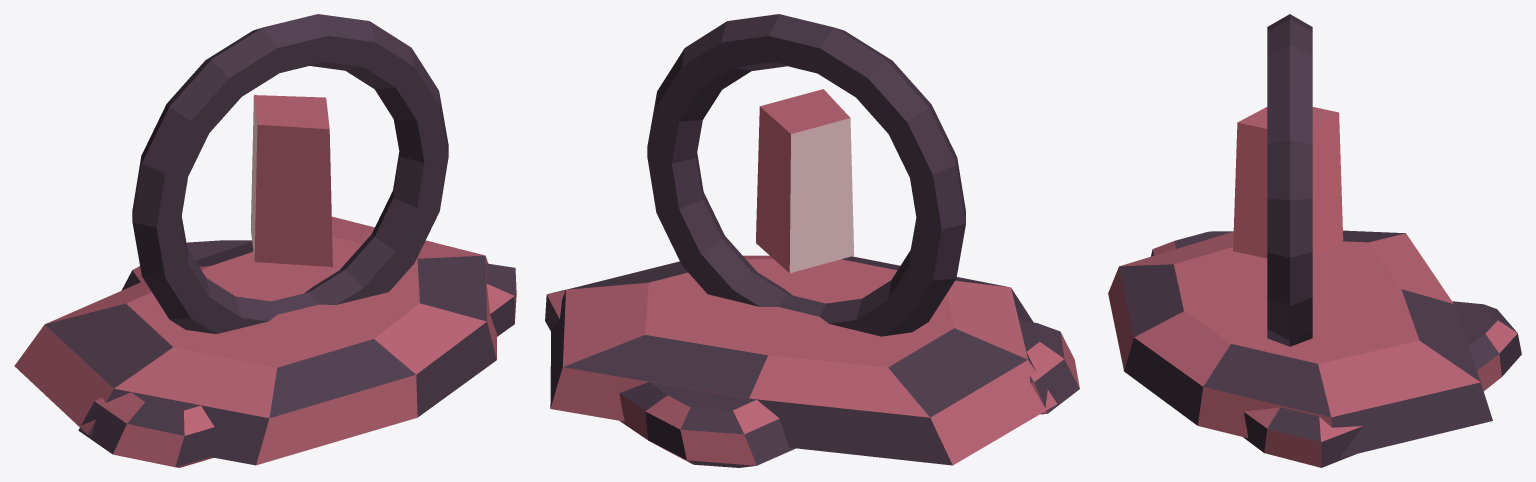
Rendered from BH_ORE_O17_Nucleo_Infernal_V01.glb.
3 views of the same model, side by side, from view 1: azimuth 30°, elevation 25°; view 2: azimuth 150°, elevation 25°; view 3: azimuth 270°, elevation 25° (orthographic). The views are drawn at different scales.
Visible parts, largest first — view 1: Bedrock | primary.001, Enclosing stone / obsidian halo.001, Square infernal core.001, Bedrock | shoulder 1.001, Bedrock | shoulder 2.001, Bedrock | shoulder 3.001; view 2: Bedrock | primary.001, Enclosing stone / obsidian halo.001, Square infernal core.001, Bedrock | shoulder 3.001, Bedrock | shoulder 1.001, Bedrock | shoulder 2.001; view 3: Bedrock | primary.001, Enclosing stone / obsidian halo.001, Square infernal core.001, Bedrock | shoulder 2.001, Bedrock | shoulder 3.001, Bedrock | shoulder 1.001.
Boxes of the visible parts, left/top/right/bottom form: Bedrock | primary.001: left=14, top=216, right=496, bottom=465; Enclosing stone / obsidian halo.001: left=132, top=14, right=448, bottom=334; Square infernal core.001: left=250, top=95, right=332, bottom=266; Bedrock | shoulder 1.001: left=78, top=392, right=214, bottom=467; Bedrock | shoulder 2.001: left=486, top=263, right=516, bottom=336; Bedrock | shoulder 3.001: left=121, top=240, right=252, bottom=290; Bedrock | primary.001: left=550, top=255, right=1057, bottom=465; Enclosing stone / obsidian halo.001: left=647, top=14, right=965, bottom=336; Square infernal core.001: left=756, top=89, right=854, bottom=272; Bedrock | shoulder 3.001: left=619, top=382, right=795, bottom=467; Bedrock | shoulder 1.001: left=1019, top=319, right=1079, bottom=414; Bedrock | shoulder 2.001: left=545, top=289, right=568, bottom=330; Bedrock | primary.001: left=1108, top=230, right=1492, bottom=457; Enclosing stone / obsidian halo.001: left=1267, top=14, right=1312, bottom=346; Square infernal core.001: left=1233, top=107, right=1343, bottom=258; Bedrock | shoulder 2.001: left=1243, top=407, right=1362, bottom=467; Bedrock | shoulder 3.001: left=1452, top=301, right=1521, bottom=390; Bedrock | shoulder 1.001: left=1151, top=231, right=1233, bottom=256.
Bounding box in the file's own units: 2.52 × 1.86 × 2.05.
